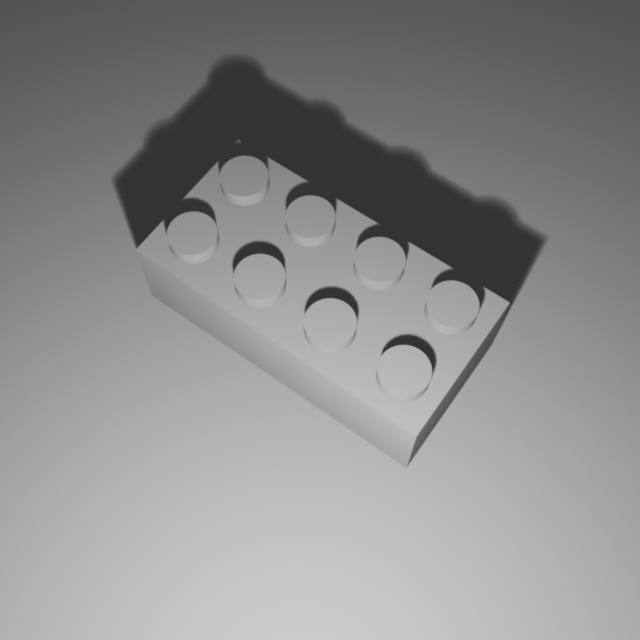lego_2x4: (132, 130, 513, 468)
